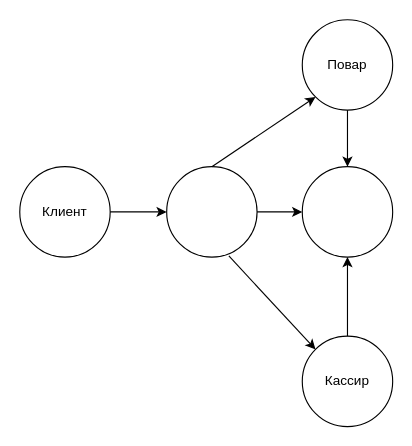
This 412x446 diagram has some shape labels left out. Each missing label, with the centre of its shape:
"Официант" belongs at (x=211, y=211).
"Уборщик" belongs at (x=347, y=211).
